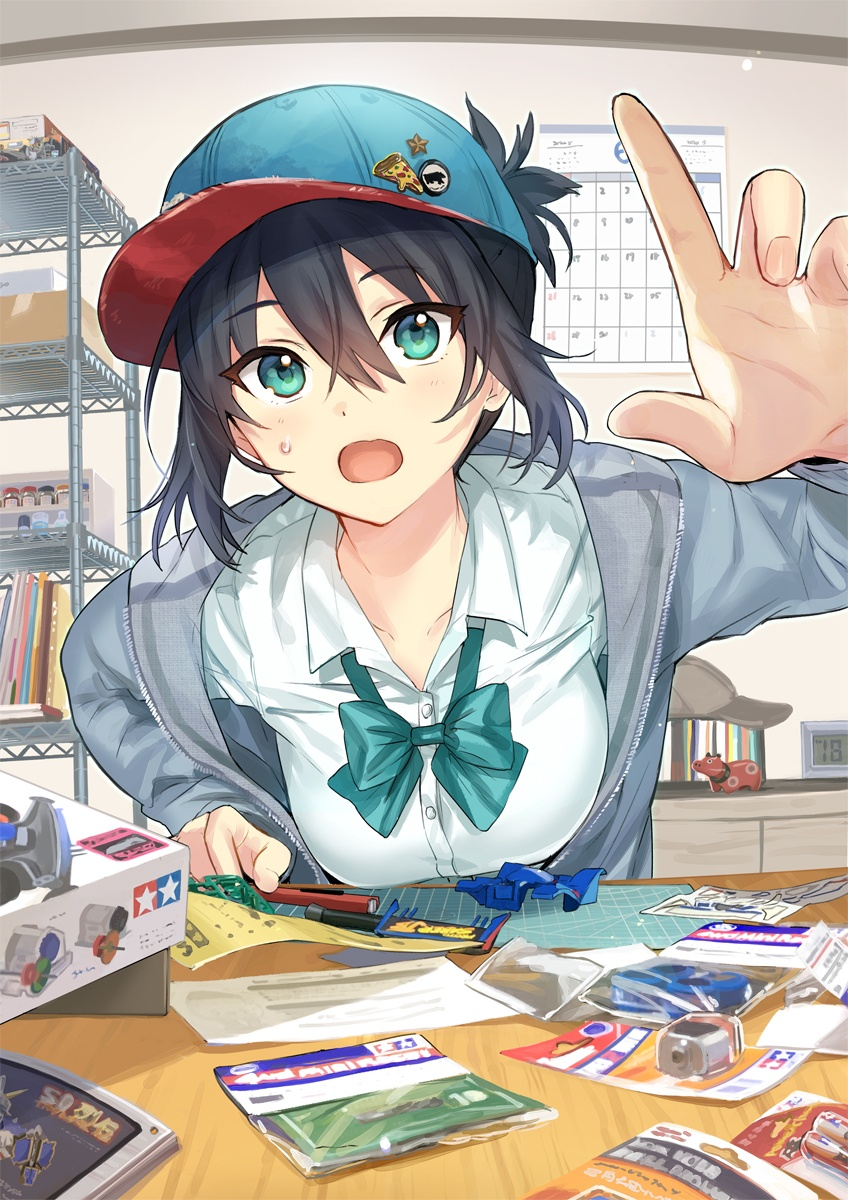纸片人正脸: (111, 148, 550, 535)
